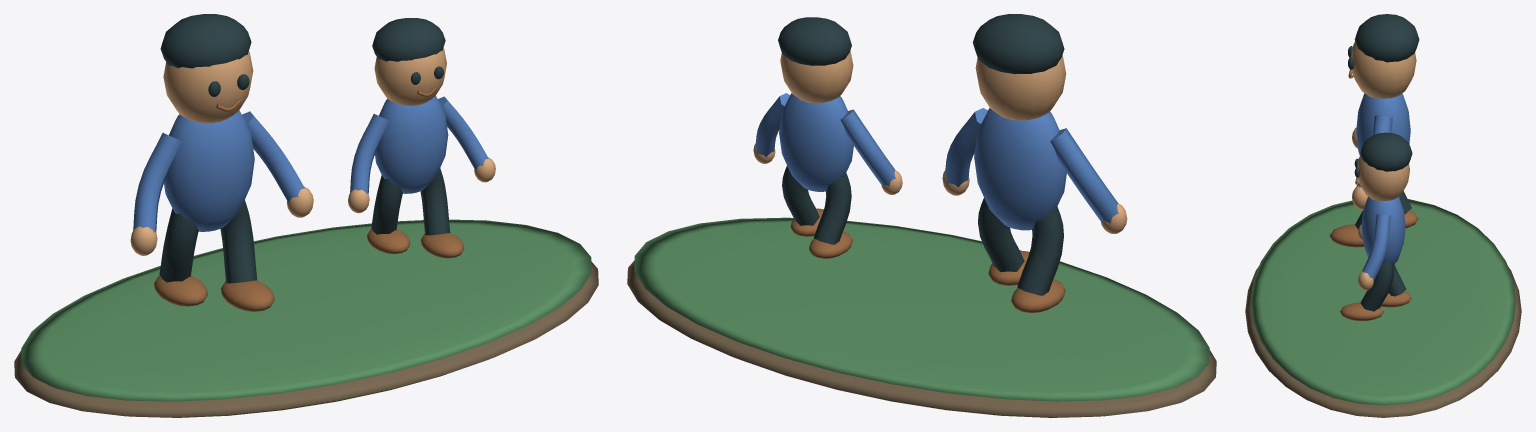
Rendered from man-person.glb.
3 renders of one model, left to right at view 1: azimuth 30°, elevation 25°; view 2: azimuth 150°, elevation 25°; view 3: azimuth 270°, elevation 25°, orthographic. The views are drawn at different scales.
Visible parts, largest first — view 1: man-person_surface_01, man-person_surface_05, man-person_surface_03, man-person_surface_00, man-person_surface_02, man-person_surface_04; view 2: man-person_surface_01, man-person_surface_05, man-person_surface_03, man-person_surface_00, man-person_surface_02, man-person_surface_04; view 3: man-person_surface_01, man-person_surface_03, man-person_surface_05, man-person_surface_00, man-person_surface_02, man-person_surface_04.
Part boxes in pixels (x1,y1,x2,y2): man-person_surface_01: (21,219,591,401); man-person_surface_05: (133,96,488,232); man-person_surface_03: (159,14,450,283); man-person_surface_00: (14,261,598,417); man-person_surface_02: (130,48,495,255); man-person_surface_04: (154,87,464,311); man-person_surface_01: (634,217,1209,401); man-person_surface_05: (755,93,1118,230); man-person_surface_03: (778,14,1064,295); man-person_surface_00: (627,260,1216,417); man-person_surface_02: (753,50,1127,233); man-person_surface_04: (790,208,1065,312); man-person_surface_01: (1250,199,1516,405); man-person_surface_03: (1348,14,1419,311); man-person_surface_05: (1356,93,1410,281); man-person_surface_00: (1245,266,1521,417); man-person_surface_02: (1351,41,1416,290); man-person_surface_04: (1329,69,1418,320).
Bounding box in the file's own units: 4.56 × 2.68 × 2.5.
